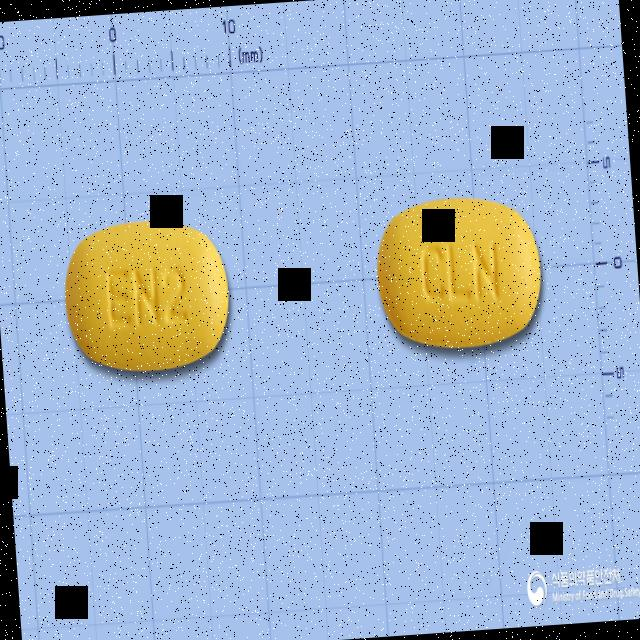Criacin: (59, 213, 234, 377), (372, 192, 546, 354)
